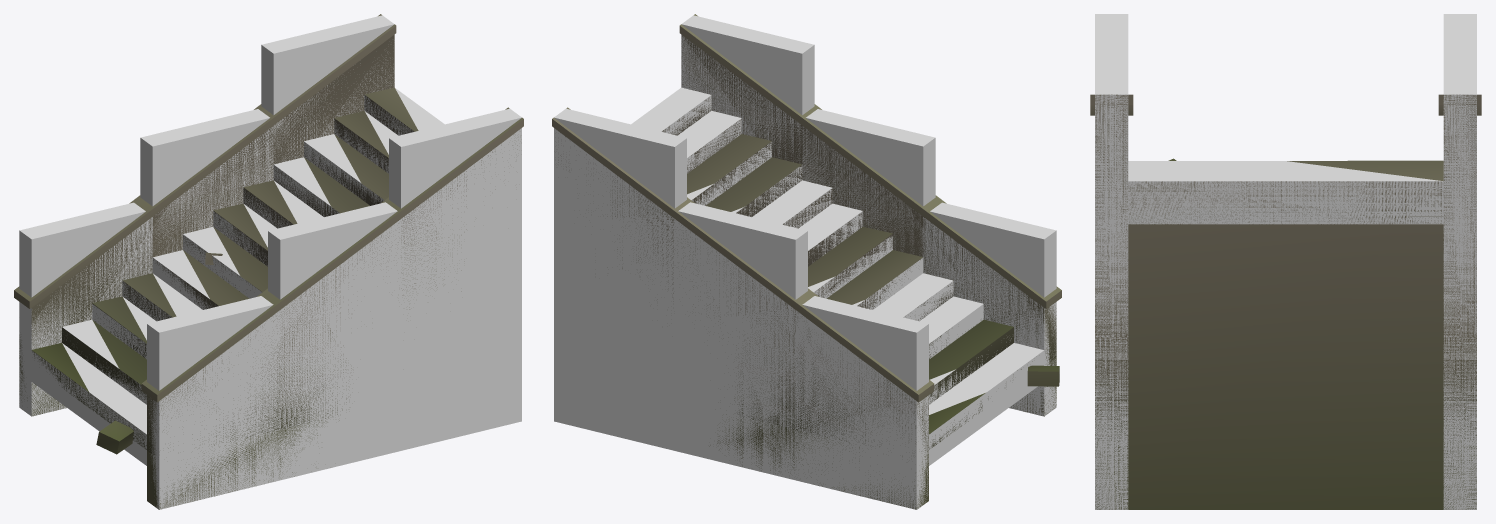
Rendered from castle_stairs.glb.
The picture shows the model from 3 angles, left to right: view 1: azimuth 30°, elevation 25°; view 2: azimuth 150°, elevation 25°; view 3: azimuth 270°, elevation 25°; orthographic projection. The views are drawn at different scales.
Visible parts, largest first — view 1: castle_stairs, COL_side_l3, COL_side_l2, COL_side_l1, COL_side_r1, COL_side_r2, COL_side_r3, WALK_step_01, WALK_step_06, WALK_step_10, WALK_step_09, WALK_step_05 (+7 smaller); view 2: castle_stairs, COL_side_r3, COL_side_r2, COL_side_r1, COL_side_l1, COL_side_l3, COL_side_l2, WALK_step_01, WALK_step_04, WALK_step_12, WALK_step_08, WALK_step_03 (+7 smaller); view 3: castle_stairs, WALK_step_12, COL_side_l3, COL_side_r3.
Part boxes in pixels (x1=…): castle_stairs: x1=14, y1=14, x2=523, y2=509; COL_side_l3: x1=389, y1=108, x2=521, y2=450; COL_side_l2: x1=268, y1=202, x2=400, y2=480; COL_side_l1: x1=147, y1=296, x2=280, y2=509; COL_side_r1: x1=19, y1=202, x2=152, y2=416; COL_side_r2: x1=140, y1=109, x2=273, y2=255; COL_side_r3: x1=261, y1=15, x2=394, y2=163; WALK_step_01: x1=31, y1=343, x2=146, y2=465; WALK_step_06: x1=183, y1=227, x2=262, y2=298; WALK_step_10: x1=304, y1=134, x2=384, y2=204; WALK_step_09: x1=273, y1=157, x2=338, y2=216; WALK_step_05: x1=152, y1=250, x2=215, y2=309; castle_stairs: x1=552, y1=14, x2=1061, y2=509; COL_side_r3: x1=554, y1=108, x2=686, y2=450; COL_side_r2: x1=675, y1=202, x2=807, y2=480; COL_side_r1: x1=795, y1=296, x2=928, y2=509; COL_side_l1: x1=923, y1=202, x2=1056, y2=416; COL_side_l3: x1=681, y1=15, x2=814, y2=163; COL_side_l2: x1=802, y1=109, x2=935, y2=256; WALK_step_01: x1=929, y1=343, x2=1044, y2=465; WALK_step_04: x1=873, y1=273, x2=953, y2=321; WALK_step_12: x1=631, y1=87, x2=711, y2=135; WALK_step_08: x1=752, y1=180, x2=832, y2=228; WALK_step_03: x1=919, y1=296, x2=983, y2=358; castle_stairs: x1=1090, y1=94, x2=1481, y2=509; WALK_step_12: x1=1128, y1=161, x2=1443, y2=224; COL_side_l3: x1=1095, y1=14, x2=1128, y2=509; COL_side_r3: x1=1443, y1=14, x2=1476, y2=509.
Size of the model in its own units: 6.54 by 4.8 by 4.1.
